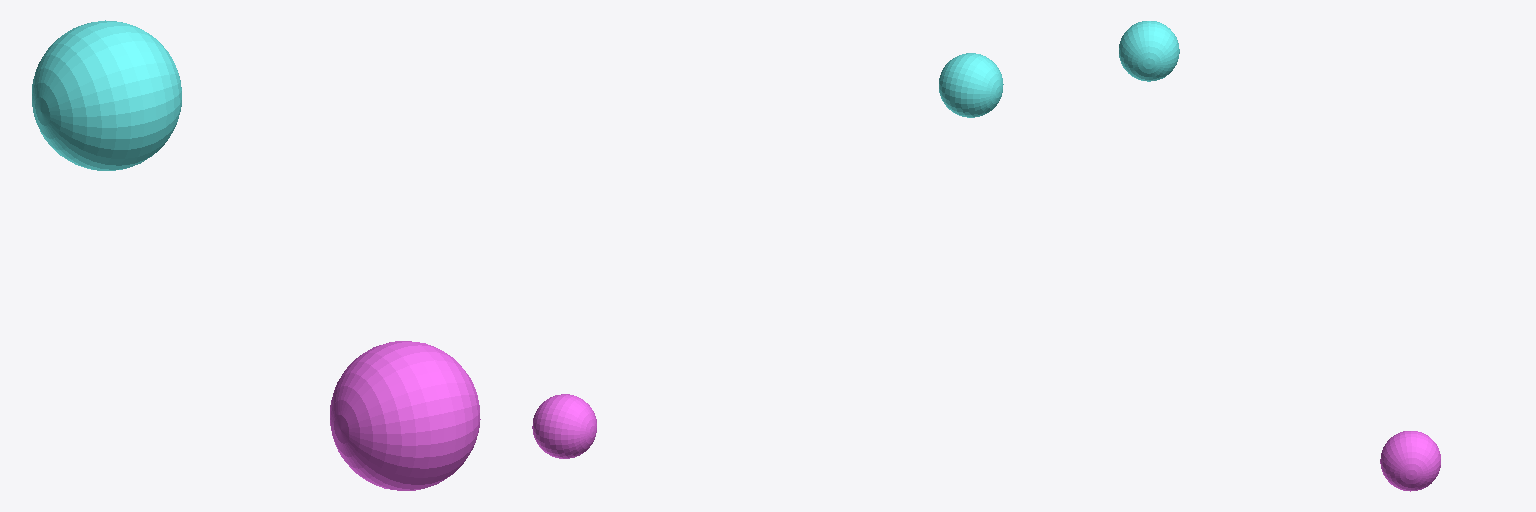
The robot description file, URDF, robot "panda":
<?xml version='1.0' encoding='utf-8'?>
<robot name="panda">

    <link name="link0">
      <inertial>
        <origin xyz="0 0 0.05" rpy="0 0 0" />
        <mass value="4" />
        <inertia ixx="0.4" iyy="0.4" izz="0.4" ixy="0" ixz="0" iyz="0" />
      </inertial>
      <visual>
        <geometry>
          <mesh filename="../../model/panda/meshes/visual/link0.obj"/>
        </geometry>
      </visual>
<!--       <collision>
        <geometry>
          <mesh filename="../../../model/panda/meshes/collision/link0.obj"/>
        </geometry>
      </collision> -->
    </link>
    <link name="link1">
      <inertial>
        <origin xyz="0 0 -0.07" rpy="0 -0 0" />
        <mass value="4" />
        <inertia ixx="0.3" iyy="0.3" izz="0.3" ixy="0" ixz="0" iyz="0" />
      </inertial>
      <visual>
        <geometry>
          <mesh filename="../../model/panda/meshes/visual/link1.obj"/>
        </geometry>
      </visual>
      <!-- <collision>
        <geometry>
          <mesh filename="../../../model/panda/meshes/collision/link1.obj"/>
        </geometry>
      </collision> -->
    </link>
    <link name="link2">
      <inertial>
        <origin xyz="0 -0.1 0" rpy="0 -0 0" />
        <mass value="3" />
        <inertia ixx="0.3" iyy="0.3" izz="0.3" ixy="0" ixz="0" iyz="0" />
      </inertial>
      <visual>
        <geometry>
          <mesh filename="../../model/panda/meshes/visual/link2.obj"/>
        </geometry>
      </visual>
      <!-- <collision>
        <geometry>
          <mesh filename="../../../model/panda/meshes/collision/link2.obj"/>
        </geometry>
      </collision> -->
    </link>
    <link name="link3">
      <inertial>
        <origin xyz="0.04 0 -0.05" rpy="0 -0 0" />
        <mass value="3" />
        <inertia ixx="0.2" iyy="0.2" izz="0.2" ixy="0" ixz="0" iyz="0" />
      </inertial>
      <visual>
        <geometry>
          <mesh filename="../../model/panda/meshes/visual/link3.obj"/>
        </geometry>
      </visual>
      <!-- <collision>
        <geometry>
          <mesh filename="../../../model/panda/meshes/collision/link3.obj"/>
        </geometry>
      </collision> -->
    </link>
    <link name="link4">
      <inertial>
        <origin xyz="-0.04 0.05 0" rpy="0 -0 0" />
        <mass value="3" />
        <inertia ixx="0.2" iyy="0.2" izz="0.2" ixy="0" ixz="0" iyz="0" />
      </inertial>
      <visual>
        <geometry>
          <mesh filename="../../model/panda/meshes/visual/link4.obj"/>
        </geometry>
      </visual>
<!--       <collision>
        <geometry>
          <mesh filename="../../../model/panda/meshes/collision/link4.obj"/>
        </geometry>
      </collision> -->
    </link>
    <link name="link5">
      <inertial>
        <origin xyz="0 0 -0.15" rpy="0 -0 0" />
        <mass value="3" />
        <inertia ixx="0.2" iyy="0.2" izz="0.2" ixy="0" ixz="0" iyz="0" />
      </inertial>
      <visual>
        <geometry>
          <mesh filename="../../model/panda/meshes/visual/link5.obj"/>
        </geometry>
      </visual>
<!--       <collision>
        <geometry>
          <mesh filename="../../../model/panda/meshes/collision/link5.obj"/>
        </geometry>
      </collision> -->
    </link>
    <link name="link6">
      <inertial>
        <origin xyz="0.06 0 0" rpy="0 -0 0" />
        <mass value="2" />
        <inertia ixx="0.1" iyy="0.1" izz="0.1" ixy="0" ixz="0" iyz="0" />
      </inertial>
      <visual>
        <geometry>
          <mesh filename="../../model/panda/meshes/visual/link6.obj"/>
        </geometry>
      </visual>
      <!-- <collision>
        <geometry>
          <mesh filename="../../../model/panda/meshes/collision/link6.obj"/>
        </geometry>
      </collision> -->
    </link>
    <link name="link7">
      <inertial>
        <origin xyz="0 0 0.17" rpy="0 -0 0" />
        <mass value="0.5" />
        <inertia ixx="0.09" iyy="0.05" izz="0.07" ixy="0" ixz="0" iyz="0" />
      </inertial>
      <visual>
        <geometry>
          <mesh filename="../../model/panda/meshes/visual/link7.obj"/>
        </geometry>
      </visual>
      <!-- <collision>
        <geometry>
          <mesh filename="../../../model/panda/meshes/collision/link7.obj"/>
        </geometry>
      </collision> -->
    </link>
    
    <link name="end_effector">
      <inertial>
        <origin xyz="0 0 0" rpy="0 0 0" />
<!--        <mass value="0.5" />--> original value
        <mass value="0.7" />
        <inertia ixx="0.05" iyy="0.05" izz="0.05" ixy="0" ixz="0" iyz="0" />
      </inertial>
      <visual>
        <geometry>
          <sphere radius="0.01"/>
        </geometry>
        <material name="material_ee">
            <color rgba="0.5 1 1 1.0" />
        </material>
      </visual>
      <collision>
        <geometry>
          <sphere radius="0.01"/>
        </geometry>
      </collision>      
    </link>
    
    <joint name="joint_fixed" type="fixed">
      <!-- <origin rpy="0 0 0" xyz="0.075 0.18 0.09"/>  -->
<!--      Original values of franka robot-->
<!--      <origin rpy="0 0 0" xyz="0.0 0.0 0.15"/> -->
<!--	modified values of franka robot.-->
      <origin rpy="0 0 -0.78539816339" xyz="0.0 0.0 0.227"/>
      <parent link="link7"/>
      <child link="end_effector"/>
    </joint>
    
    <link name="camera_link">
      <inertial>
        <origin xyz="0 0 0" rpy="0 0 0" />
        <mass value="0.5" />
        <inertia ixx="0.05" iyy="0.05" izz="0.05" ixy="0" ixz="0" iyz="0" />
      </inertial>
      <visual>
        <geometry>
          <sphere radius="0.01"/>
        </geometry>
        <material name="material_ee">
            <color rgba="1.0 0.5 1 1.0" />
        </material>
      </visual>
      <collision>
        <geometry>
          <sphere radius="0.01"/>
        </geometry>
      </collision>      
    </link>
    
    <joint name="joint_camera" type="fixed">
      <!-- <origin rpy="0 0 0" xyz="0.075 0.18 0.09"/>  -->
<!--      Original values of franka robot-->
<!--      <origin rpy="0 0 0" xyz="0.0 0.0 0.15"/> -->
<!--	modified values of franka robot.-->
      <origin rpy="-0.0451196 -0.0166413 0.798895" xyz="0.103379 -0.0854363 0.132081"/>
      <parent link="link7"/>
      <child link="camera_link"/>
    </joint>
    
    
    
    <joint name="joint1" type="revolute">
      <safety_controller k_position="100.0" k_velocity="40.0" soft_lower_limit="-2.8973" soft_upper_limit="2.8973"/>
      <origin rpy="0 0 0" xyz="0 0 0.333"/>
      <parent link="link0"/>
      <child link="link1"/>
      <axis xyz="0 0 1"/>
      <calibration falling="-80.0" />
      <limit effort="87" lower="-2.8973" upper="2.8973" velocity="2.1750"/>
    </joint>
    <joint name="joint2" type="revolute">
      <safety_controller k_position="100.0" k_velocity="40.0" soft_lower_limit="-1.7628" soft_upper_limit="1.7628"/>
      <origin rpy="-1.57079632679 0 0" xyz="0 0 0"/>
      <parent link="link1"/>
      <child link="link2"/>
      <axis xyz="0 0 1"/>
      <calibration falling="-45.0" />
      <limit effort="87" lower="-1.7628" upper="1.7628" velocity="2.1750"/>
    </joint>
    <joint name="joint3" type="revolute">
      <safety_controller k_position="100.0" k_velocity="40.0" soft_lower_limit="-2.8973" soft_upper_limit="2.8973"/>
      <origin rpy="1.57079632679 0 0" xyz="0 -0.316 0"/>
      <parent link="link2"/>
      <child link="link3"/>
      <axis xyz="0 0 1"/>
      <limit effort="87" lower="-2.8973" upper="2.8973" velocity="2.1750"/>
    </joint>
    <joint name="joint4" type="revolute">
      <safety_controller k_position="100.0" k_velocity="40.0" soft_lower_limit="-3.0718" soft_upper_limit="-0.0698"/>
      <origin rpy="1.57079632679 0 0" xyz="0.0825 0 0"/>
      <parent link="link3"/>
      <child link="link4"/>
      <axis xyz="0 0 1"/>
      <calibration falling="-125.0" />
      <limit effort="87" lower="-3.0718" upper="-0.0698" velocity="2.1750"/>
    </joint>
    <joint name="joint5" type="revolute">
      <safety_controller k_position="100.0" k_velocity="40.0" soft_lower_limit="-2.8973" soft_upper_limit="2.8973"/>
      <origin rpy="-1.57079632679 0 0" xyz="-0.0825 0.384 0"/>
      <parent link="link4"/>
      <child link="link5"/>
      <axis xyz="0 0 1"/>
      <limit effort="12" lower="-2.8973" upper="2.8973" velocity="2.6100"/>
    </joint>
    <joint name="joint6" type="revolute">
      <safety_controller k_position="100.0" k_velocity="40.0" soft_lower_limit="-0.0175" soft_upper_limit="3.7525"/>
      <origin rpy="1.57079632679 0 0" xyz="0 0 0"/>
      <parent link="link5"/>
      <child link="link6"/>
      <axis xyz="0 0 1"/>
      <calibration falling="80.0" />
      <limit effort="12" lower="-0.0175" upper="3.7525" velocity="2.6100"/>
    </joint>
    <joint name="joint7" type="revolute">
      <safety_controller k_position="100.0" k_velocity="40.0" soft_lower_limit="-2.8973" soft_upper_limit="2.8973"/>
      <origin rpy="1.57079632679 0 0" xyz="0.088 0 0"/>
      <parent link="link6"/>
      <child link="link7"/>
      <axis xyz="0 0 1"/>
      <limit effort="12" lower="-2.8973" upper="2.8973" velocity="2.6100"/>
    </joint>
</robot>

--- Facts derived from the render (not from the file) ---
The picture shows the robot from 3 angles, left to right: view 1: azimuth 30°, elevation 25°; view 2: azimuth 150°, elevation 25°; view 3: azimuth 270°, elevation 25°; orthographic projection.
Model panda with 10 links and 9 joints (7 revolute, 2 fixed), rooted at link0, posed all joints at 0 but 1 set to mid-range because 0 is outside their limits (joint4 = -1.57).
Links seen in each view (by area): view 1: end_effector, camera_link; view 2: camera_link, end_effector; view 3: end_effector, camera_link.
Link boxes in pixels (<box>): end_effector: <box>32,20,181,170</box>; camera_link: <box>330,341,480,490</box>; camera_link: <box>532,394,596,458</box>; end_effector: <box>939,53,1003,117</box>; end_effector: <box>1119,21,1179,81</box>; camera_link: <box>1380,431,1440,491</box>.
Bounding box of the posed robot: 0.1149 × 0.1054 × 0.1234 m (x, y, z).
0 mesh visuals loaded from 8 distinct referenced files (none loaded); not drawn: 8 (reference not matched to a file when rendering).